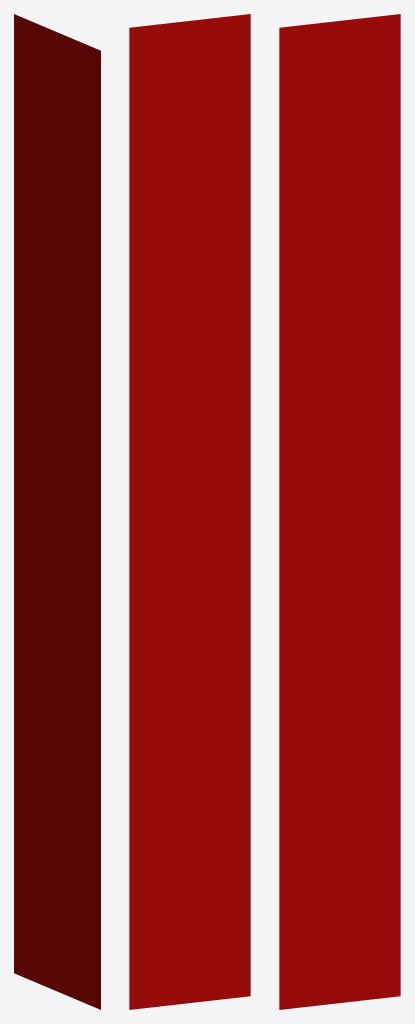
Rendered from Filler_Wall.glb.
The picture shows the model from 3 angles, left to right: view 1: azimuth 90°, elevation 25°; view 2: azimuth 150°, elevation 25°; view 3: azimuth 330°, elevation 25°; orthographic projection. The views are drawn at different scales.
Visible parts, largest first — view 1: Filler_Wall; view 2: Filler_Wall; view 3: Filler_Wall.
Boxes of the visible parts, x1,y1,x2,y2 form: Filler_Wall: [14, 14, 100, 1009]; Filler_Wall: [129, 14, 250, 1009]; Filler_Wall: [279, 14, 400, 1009].
Bounding box in the file's own units: 0.0411 × 0.5 × 0.0411.
